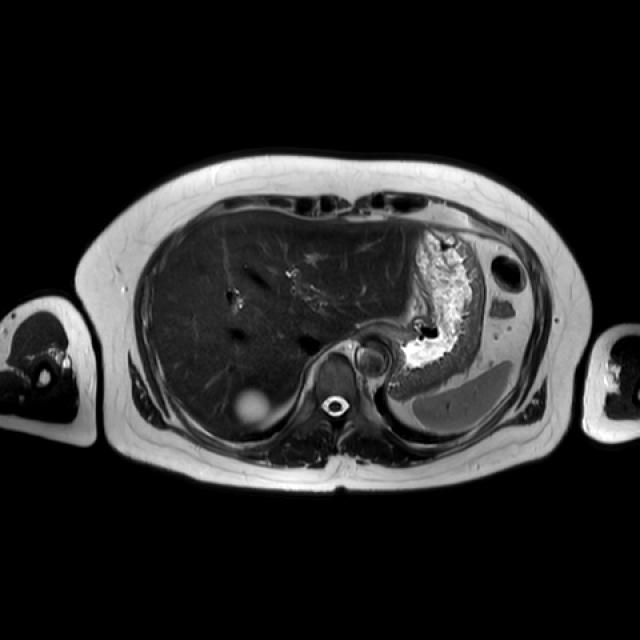sag: (233, 388, 269, 424)
